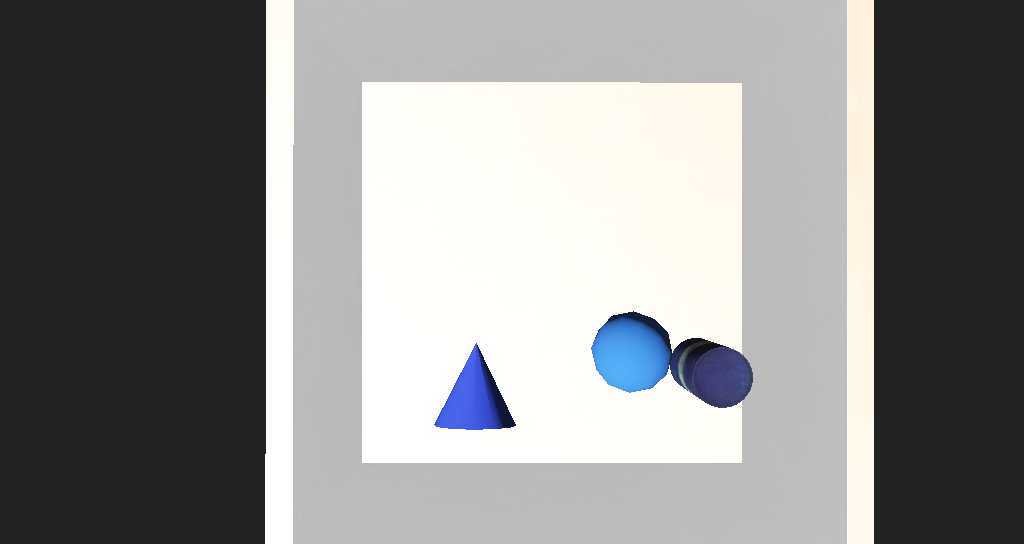cone: (600, 305, 653, 344)
cylinder: (414, 301, 475, 358)
sphere: (532, 293, 600, 336)
